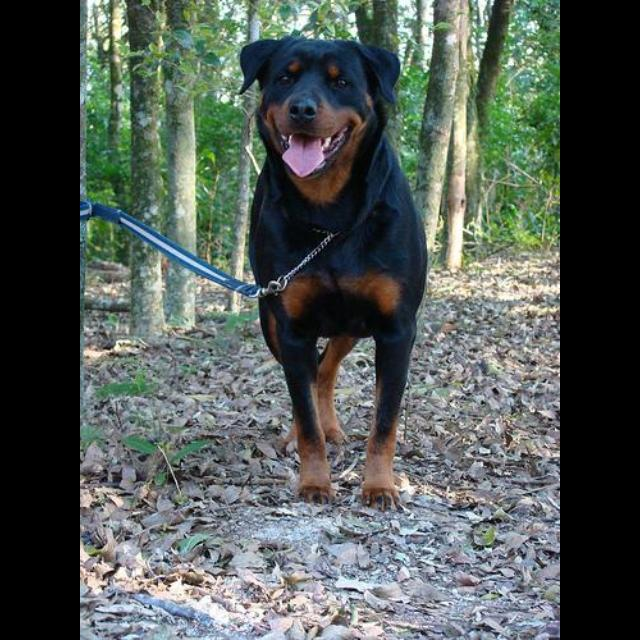rottweiler: (237, 36, 429, 513)
